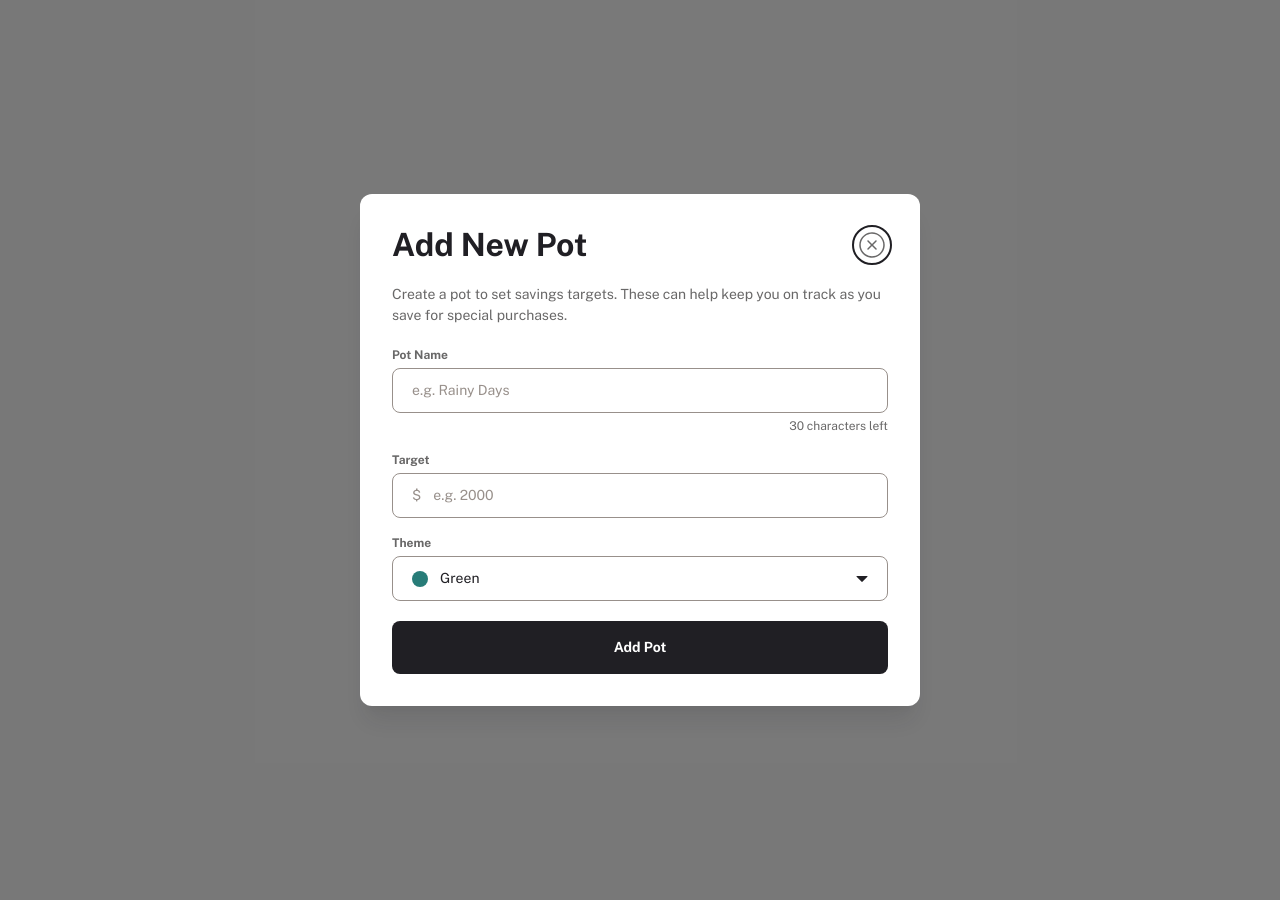
Test: PotFormModal Component › Theme › Escape closes the list without closing the modal
Step 1. Click the button named "Theme" → (460, 578), box x1=392 y1=556 x2=888 y2=601
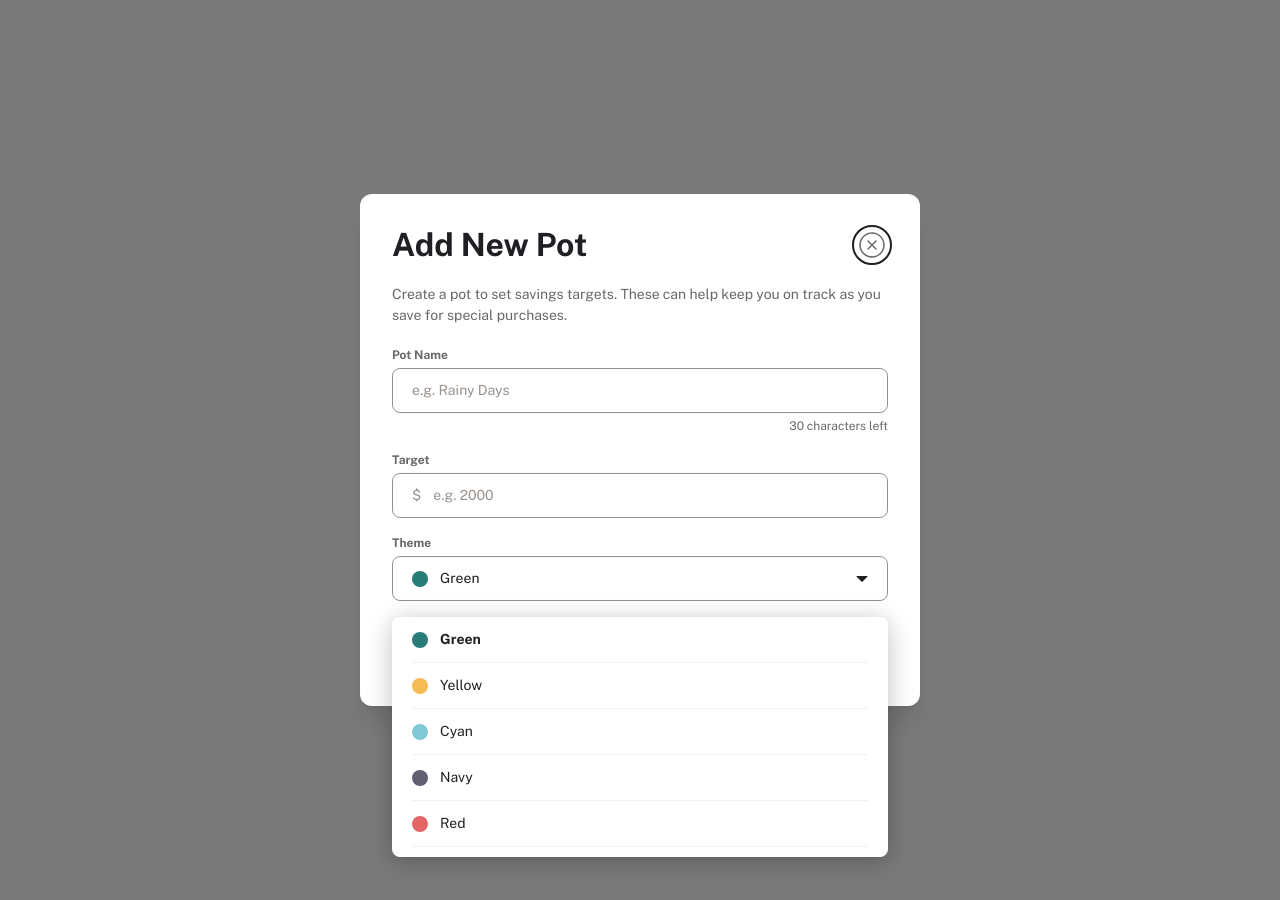
Step 2. Press Escape in the option "Green", box x1=412 y1=629 x2=868 y2=650
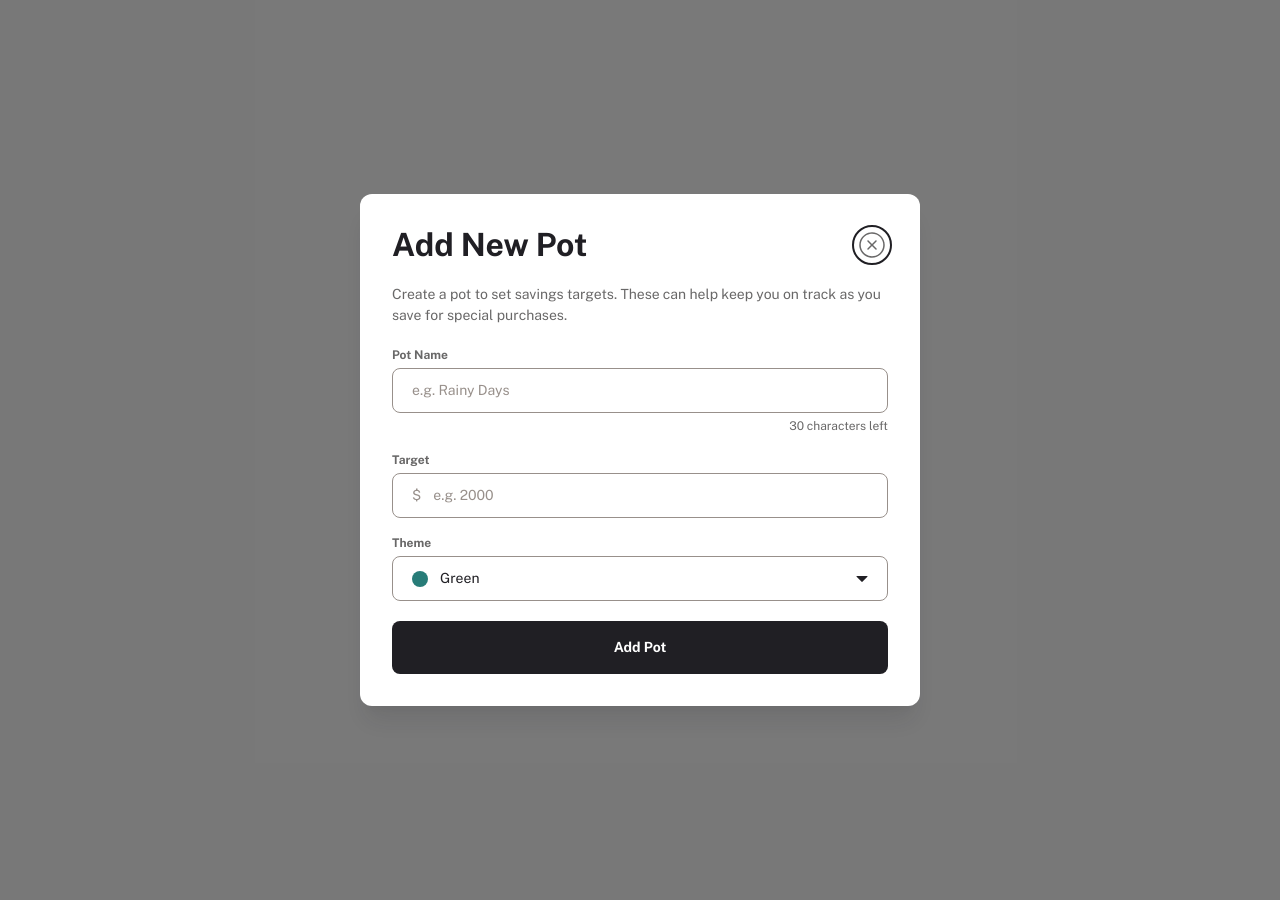
Expected: the list is gone
